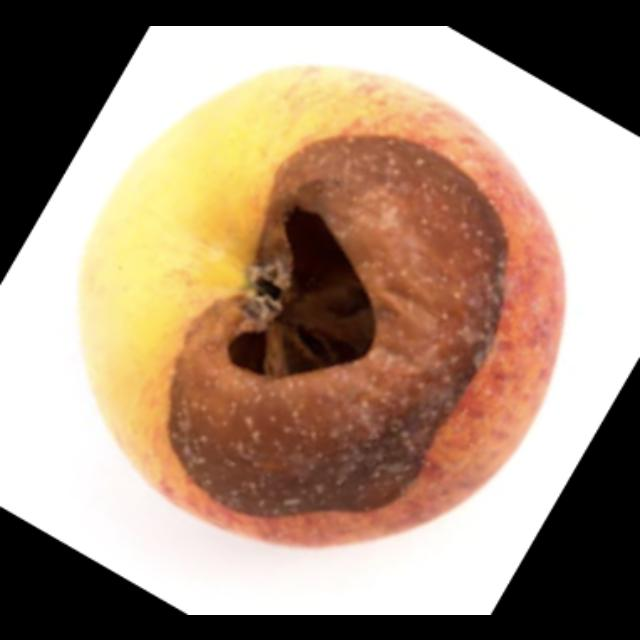Apel Tidak Segar: (112, 74, 552, 539)
